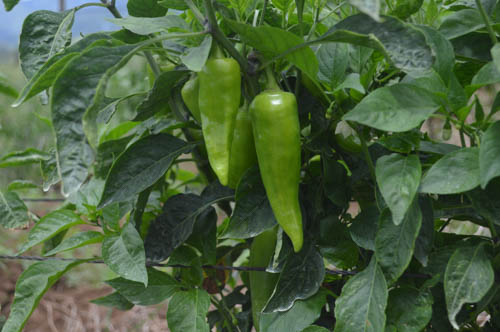ChiliPepper: (251, 94, 305, 248), (203, 59, 240, 178), (229, 105, 255, 184), (182, 78, 213, 128)
